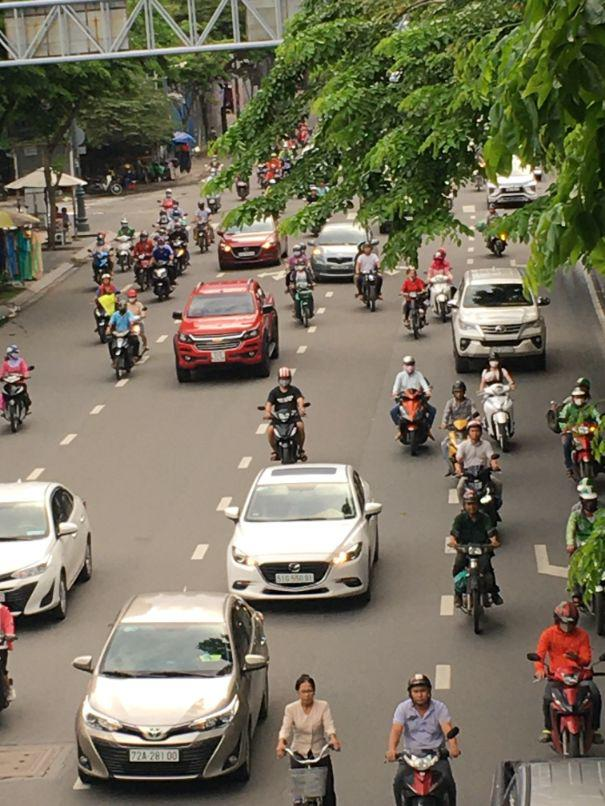car: (72, 588, 272, 787), (225, 464, 383, 612), (0, 479, 96, 628), (173, 279, 279, 387), (451, 270, 550, 375), (215, 212, 281, 271), (311, 223, 374, 280)
motorbike: (542, 660, 601, 760), (451, 541, 504, 637), (390, 390, 437, 457), (560, 426, 604, 486), (107, 320, 147, 384), (264, 407, 308, 464), (0, 373, 33, 432), (401, 274, 430, 341), (425, 265, 457, 323), (356, 267, 384, 311), (293, 279, 315, 332)
